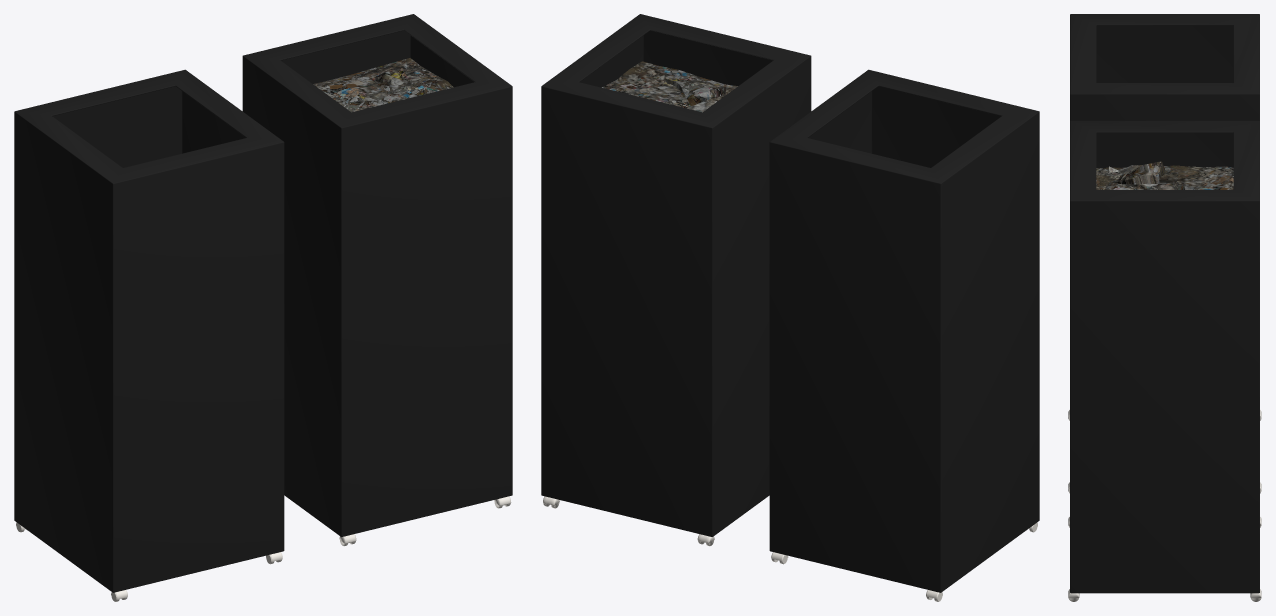
The model's file is Trash.fbx.
The picture shows the model from 3 angles, left to right: view 1: azimuth 30°, elevation 25°; view 2: azimuth 150°, elevation 25°; view 3: azimuth 270°, elevation 25°; orthographic projection. The views are drawn at different scales.
Parts seen in each view (by area): view 1: Trash, Trashfull; view 2: Trash, Trashfull; view 3: Trashfull, Trash.
Boxes of the visible parts, box(x1,y1,x2,y2) form: Trash: box(14, 69, 284, 601); Trashfull: box(242, 14, 512, 546); Trash: box(769, 69, 1039, 601); Trashfull: box(541, 14, 811, 546); Trashfull: box(1068, 120, 1261, 601); Trash: box(1068, 14, 1261, 493).
Size of the model in its own units: 69.94 by 70.22 by 30.58.
